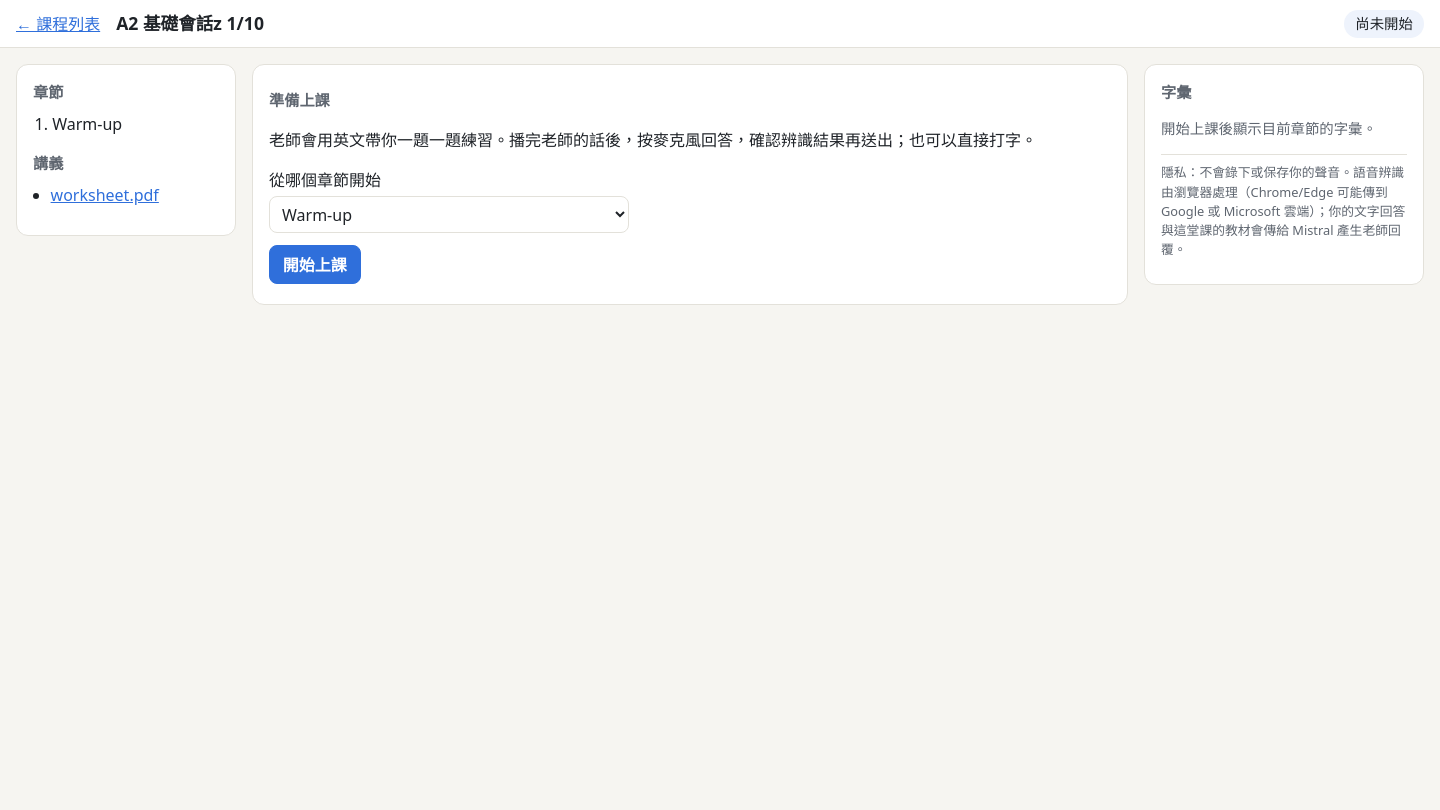
Test case: classroom › continues by text when the microphone is denied (AT-09)
Click the button "開始上課" at (315, 265), box [269,245,361,284]
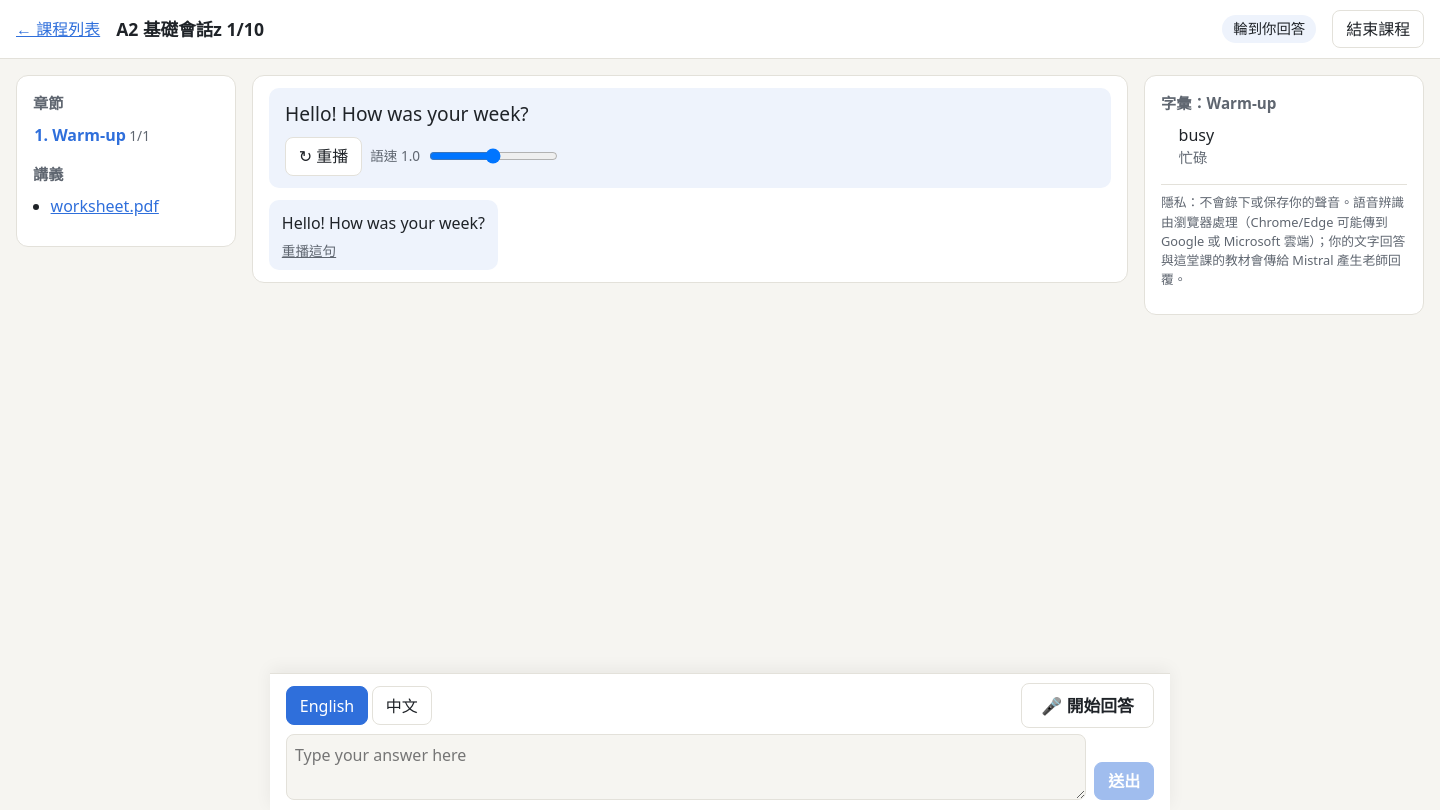
Result: the 1st text "Hello! How was your week?" is shown at [285,100,529,127]
Click the button "🎤 開始回答" at (1088, 706), box [1021,683,1154,728]
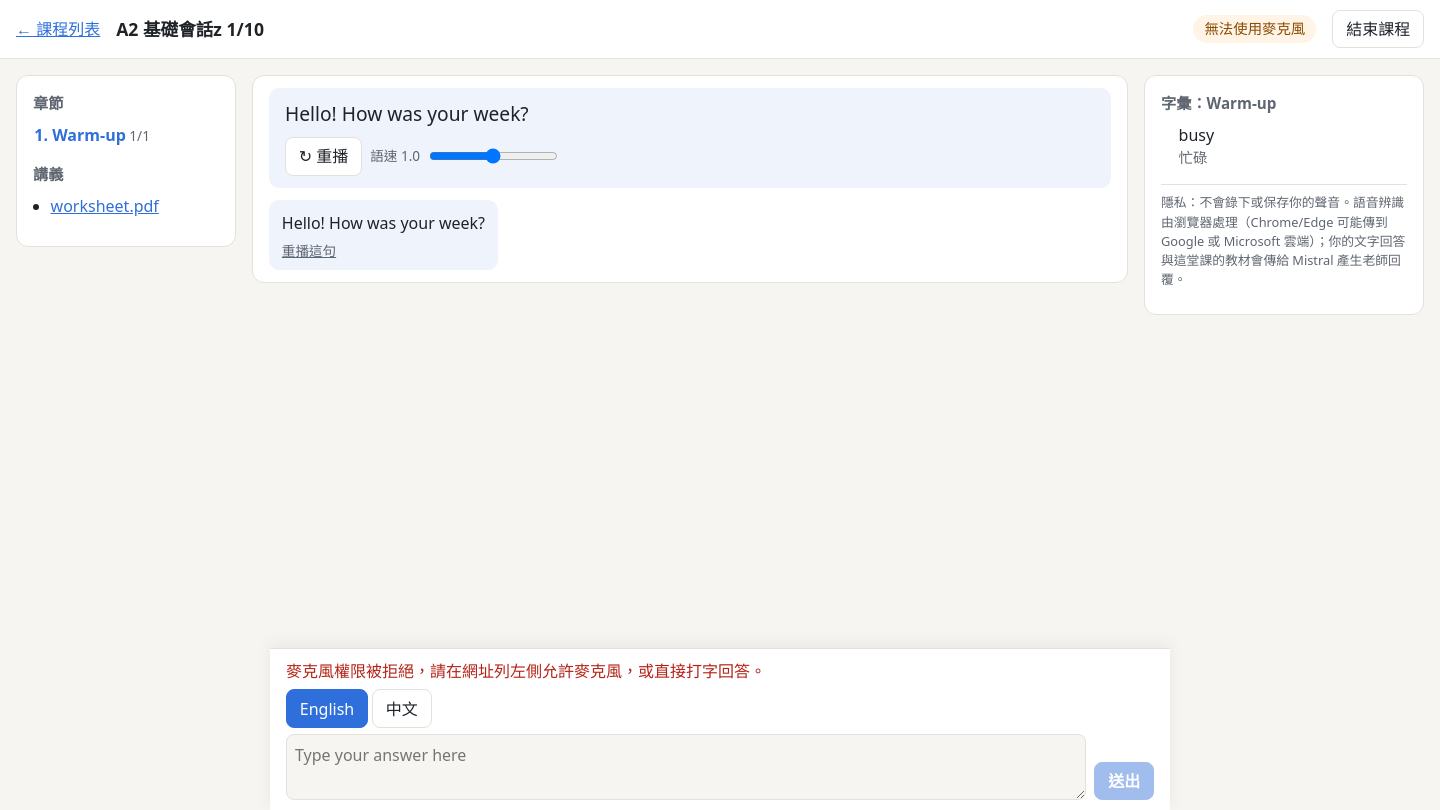
Result: the message shows "麥克風權限被拒絕" at [286,660,766,682]
Result: the button "開始回答" is gone
Type "Good." into the text box at (686, 767), box [286,734,1086,800]
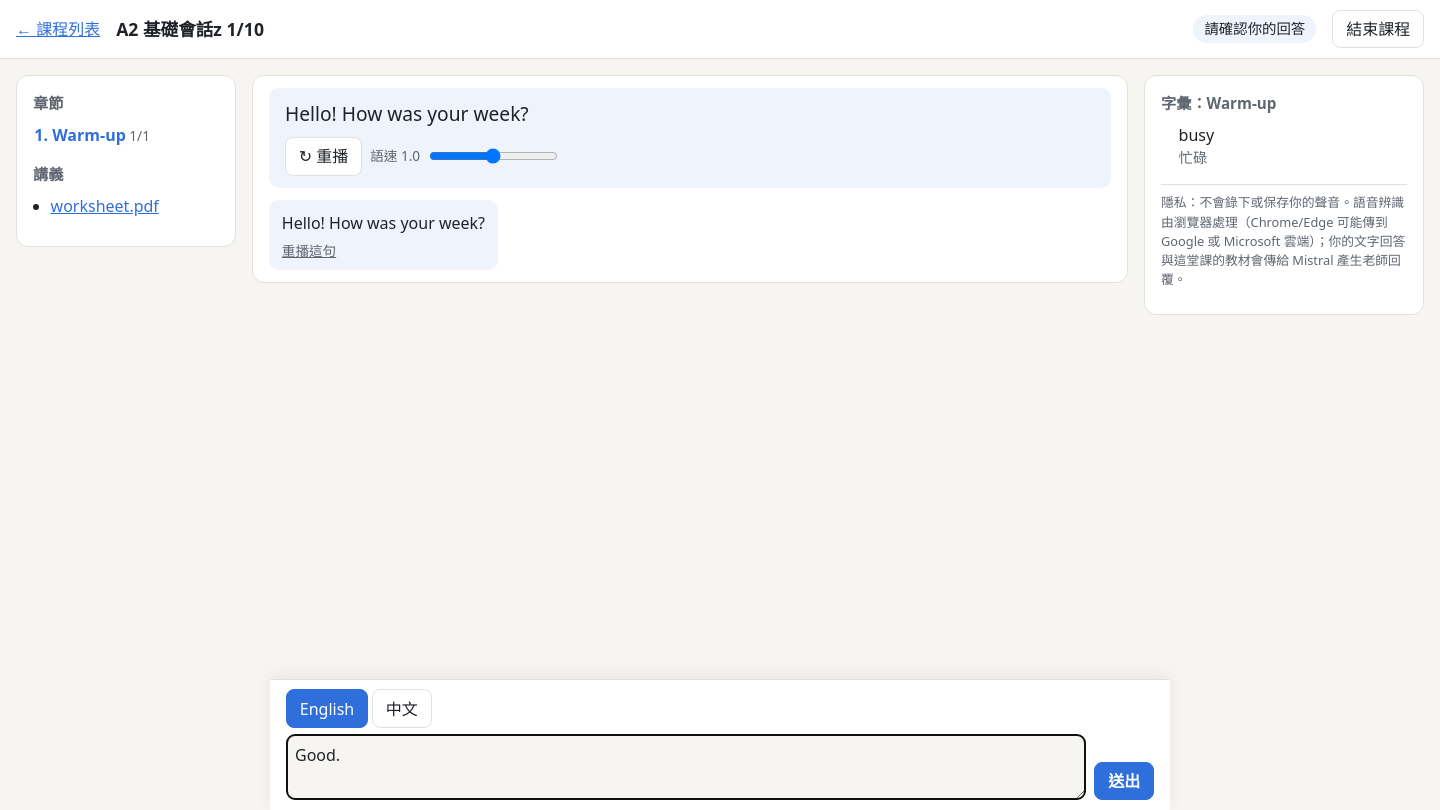
Click the button "送出" at (1124, 781), box [1094,762,1154,800]
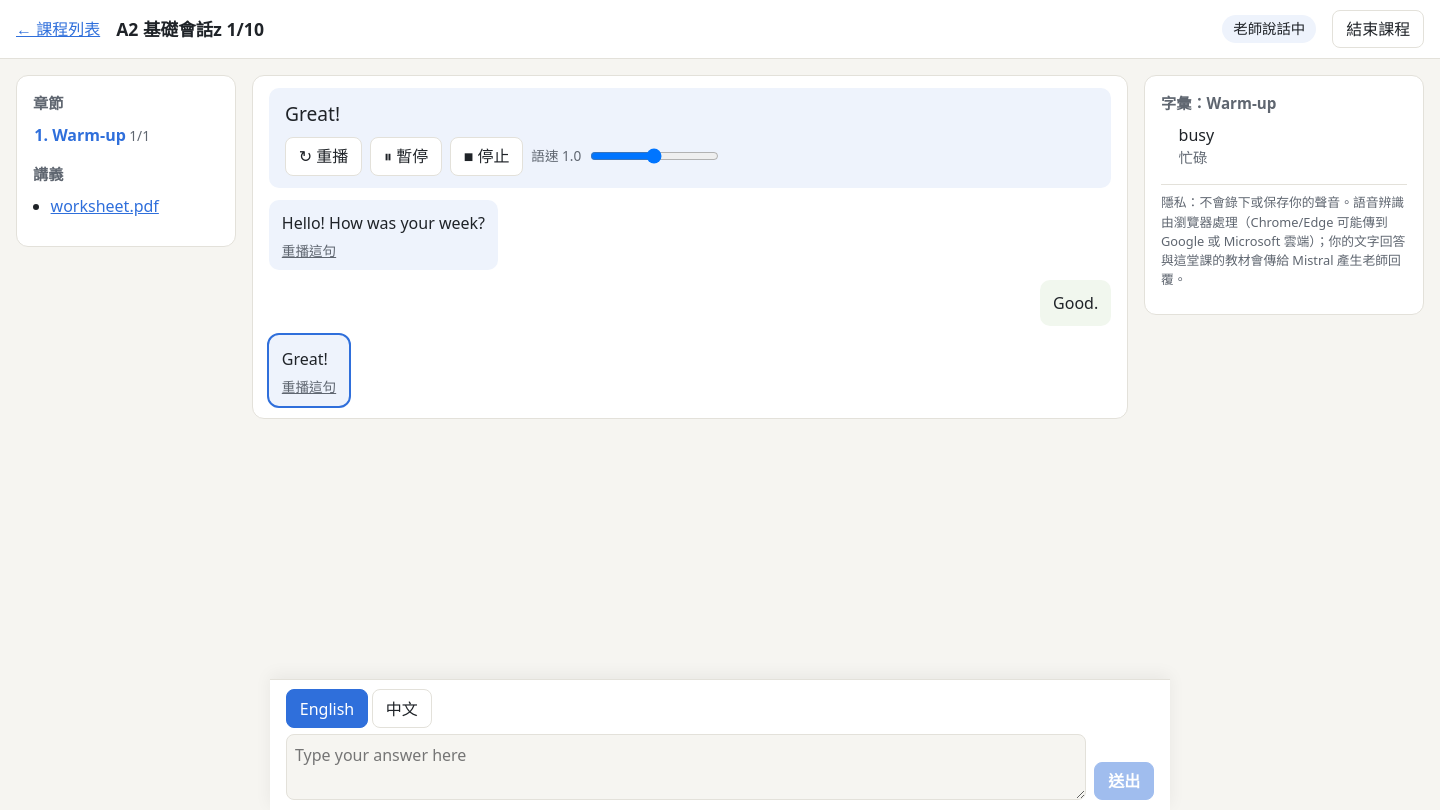
Result: the 1st text "Great!" is shown at [285,100,340,127]
